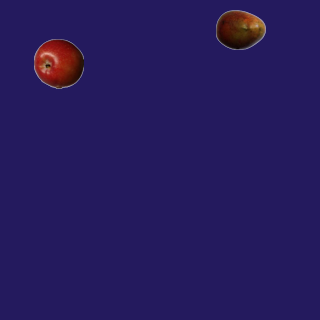Apple Braeburn: (33, 38, 83, 88)
Mango Red: (215, 4, 265, 54)
